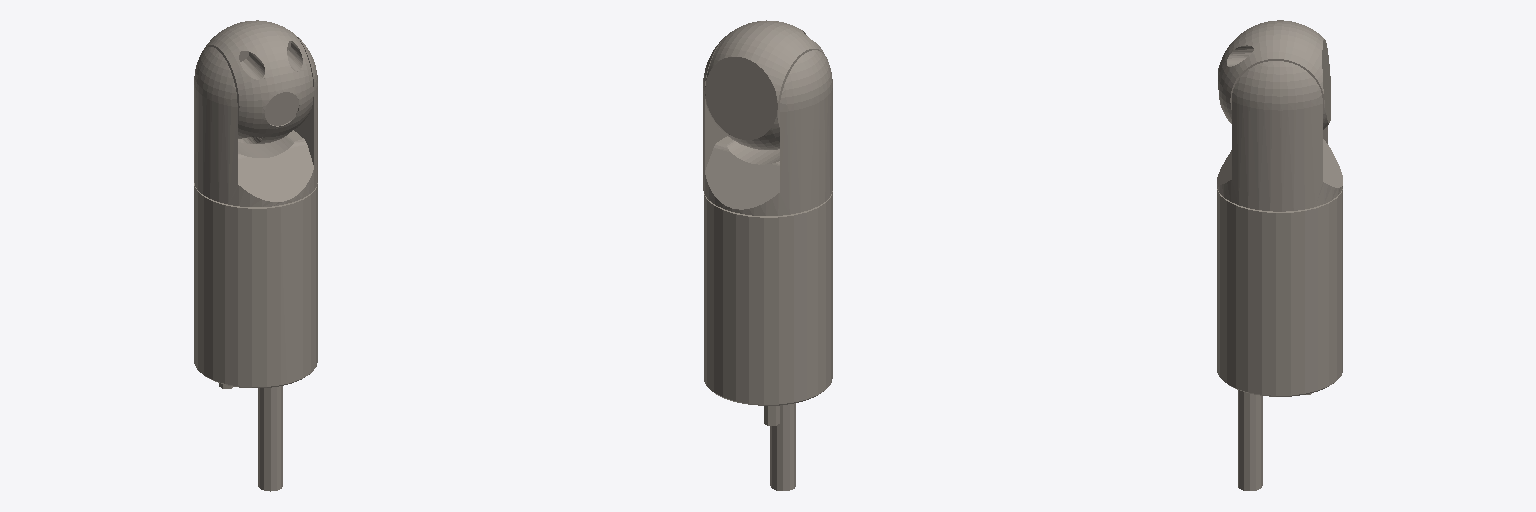
robot.urdf — scope89_ptz:
<?xml version="1.0" encoding="utf-8"?>
<!-- This URDF was automatically created by SolidWorks to URDF Exporter! Originally created by [author] ([email redacted]) 
     Commit Version: 1.6.0-4-g7f85cfe  Build Version: 1.6.7995.38578
     For more information, please see http://wiki.ros.org/sw_urdf_exporter -->
<robot
  name="scope89_ptz">
  <link
    name="base_link">
    <inertial>
      <origin
        xyz="-2.743E-05 -7.6867E-05 0.070751"
        rpy="0 0 0" />
      <mass
        value="7.1454" />
      <inertia
        ixx="0.016067"
        ixy="3.5871E-06"
        ixz="-1.6004E-05"
        iyy="0.016044"
        iyz="-5.6174E-05"
        izz="0.0070174" />
    </inertial>
    <visual>
      <origin
        xyz="0 0 0"
        rpy="0 0 0" />
      <geometry>
        <mesh
          filename="package://scope89_ptz/meshes/base_link.STL" />
      </geometry>
      <material
        name="">
        <color
          rgba="0.64706 0.61961 0.58824 1" />
      </material>
    </visual>
    <collision>
      <origin
        xyz="0 0 0"
        rpy="0 0 0" />
      <geometry>
        <mesh
          filename="package://scope89_ptz/meshes/base_link.STL" />
      </geometry>
    </collision>
  </link>
  <link
    name="Pan_Link">
    <inertial>
      <origin
        xyz="-3.8379E-05 -0.00063641 0.057188"
        rpy="0 0 0" />
      <mass
        value="4.2423" />
      <inertia
        ixx="0.0039013"
        ixy="4.2852E-05"
        ixz="6.5893E-07"
        iyy="0.0046092"
        iyz="1.0958E-05"
        izz="0.0036112" />
    </inertial>
    <visual>
      <origin
        xyz="0 0 0"
        rpy="0 0 0" />
      <geometry>
        <mesh
          filename="package://scope89_ptz/meshes/Pan_Link.STL" />
      </geometry>
      <material
        name="">
        <color
          rgba="0.64706 0.61961 0.58824 1" />
      </material>
    </visual>
    <collision>
      <origin
        xyz="0 0 0"
        rpy="0 0 0" />
      <geometry>
        <mesh
          filename="package://scope89_ptz/meshes/Pan_Link.STL" />
      </geometry>
    </collision>
  </link>
  <joint
    name="J1"
    type="revolute">
    <origin
      xyz="0 0 0.14288"
      rpy="0 0 0" />
    <parent
      link="base_link" />
    <child
      link="Pan_Link" />
    <axis
      xyz="0 0 1" />
    <limit
      lower="-3.1415"
      upper="3.1415"
      effort="10"
      velocity="1.0" />
  </joint>
  <link
    name="Tilt_Link">
    <inertial>
      <origin
        xyz="-7.1877E-05 -0.0011918 -0.00010749"
        rpy="0 0 0" />
      <mass
        value="2.2653" />
      <inertia
        ixx="0.0018095"
        ixy="-1.5541E-05"
        ixz="6.5889E-07"
        iyy="0.0015529"
        iyz="1.0959E-05"
        izz="0.001431" />
    </inertial>
    <visual>
      <origin
        xyz="0 0 0"
        rpy="0 0 0" />
      <geometry>
        <mesh
          filename="package://scope89_ptz/meshes/Tilt_Link.STL" />
      </geometry>
      <material
        name="">
        <color
          rgba="0.64706 0.61961 0.58824 1" />
      </material>
    </visual>
    <collision>
      <origin
        xyz="0 0 0"
        rpy="0 0 0" />
      <geometry>
        <mesh
          filename="package://scope89_ptz/meshes/Tilt_Link.STL" />
      </geometry>
    </collision>
  </link>
  <joint
    name="J2"
    type="revolute">
    <origin
      xyz="0 0 0.079375"
      rpy="0 0 0" />
    <parent
      link="Pan_Link" />
    <child
      link="Tilt_Link" />
    <axis
      xyz="-0.99819 0.060204 0" />
    <limit
      lower="-2.443"
      upper="2.443"
      effort="10"
      velocity="1.0" />
  </joint>
</robot>

--- Render facts (derived) ---
The picture shows the robot from 3 angles, left to right: view 1: azimuth 30°, elevation 25°; view 2: azimuth 150°, elevation 25°; view 3: azimuth 270°, elevation 25°; orthographic projection.
Robot: scope89_ptz — 3 links, 2 joints (2 revolute); root link base_link; default pose: all joints at 0.
Visible links, largest first — view 1: base_link, Pan_Link, Tilt_Link; view 2: base_link, Pan_Link, Tilt_Link; view 3: base_link, Pan_Link, Tilt_Link.
Boxes of the visible links, x1,y1,x2,y2 form: base_link: (194, 183, 317, 491); Pan_Link: (194, 20, 317, 206); Tilt_Link: (207, 21, 313, 143); base_link: (704, 191, 832, 490); Pan_Link: (703, 20, 832, 215); Tilt_Link: (706, 23, 826, 147); base_link: (1217, 189, 1342, 490); Pan_Link: (1217, 20, 1342, 211); Tilt_Link: (1218, 21, 1330, 122).
Size in the robot's own frame: 0.0889 by 0.0889 by 0.3556 metres.
3 mesh visuals loaded from 3 distinct referenced files (3 binary STL).